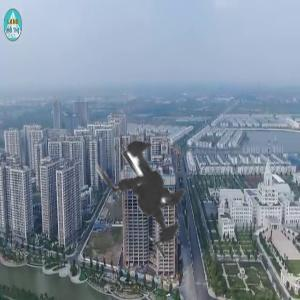drone: (53, 82, 263, 292)
